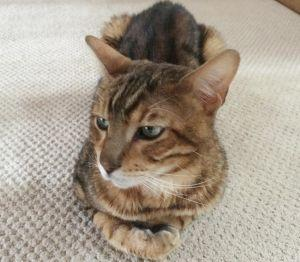bengal: (65, 31, 248, 199)
